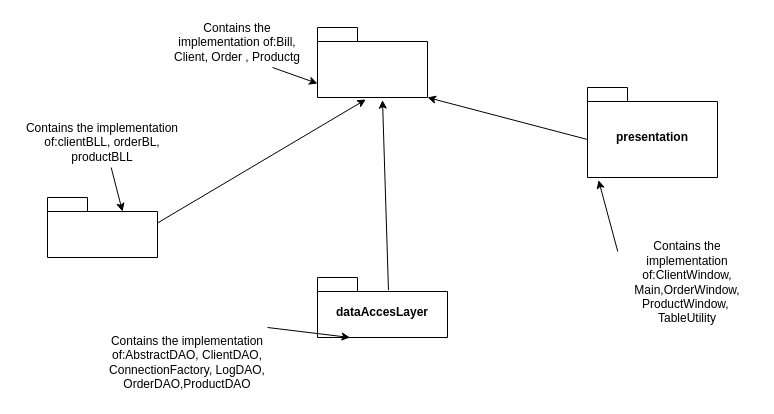
This 774x414 diagram has some shape labels left out. The shapes that lost their labels are listed below. From the top down, each one's centre as x and y in pixels, then its label:
[372,62]: Model
[102,227]: businessLayer
